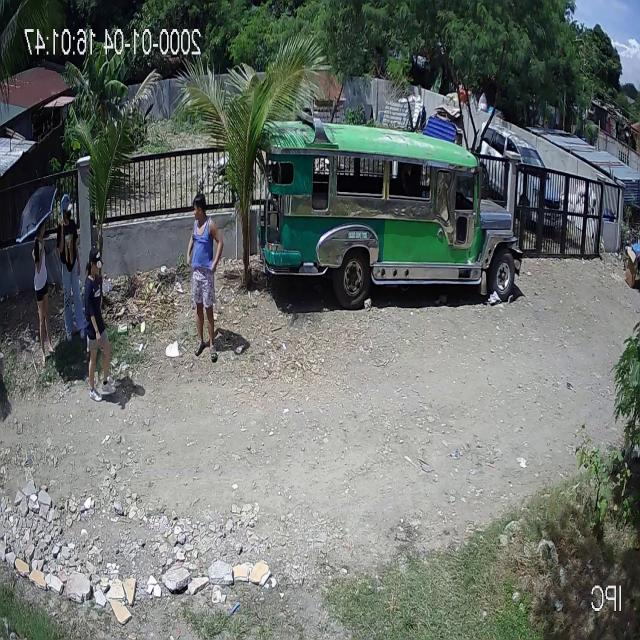standing: (184, 193, 223, 362), (54, 194, 86, 344), (28, 220, 56, 368)
walking: (84, 244, 111, 401)
